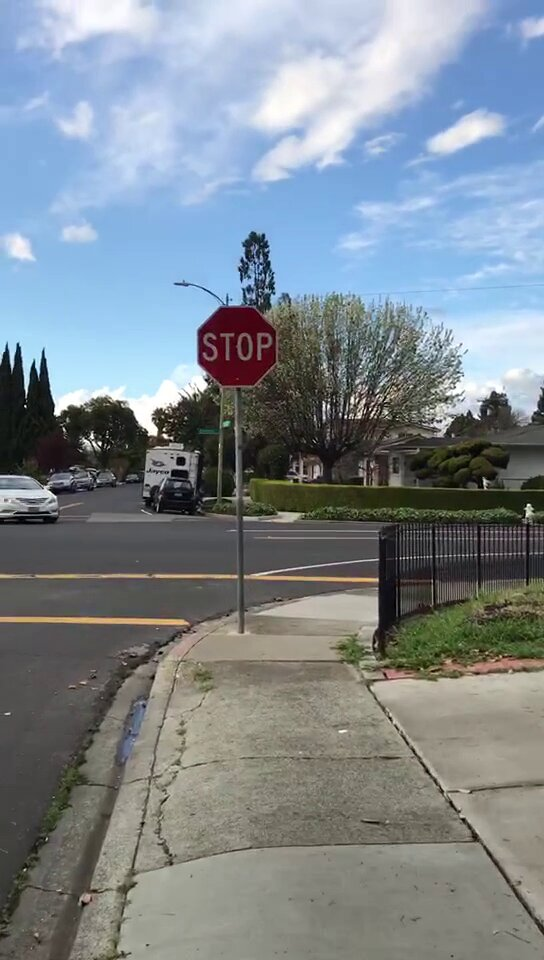stop_sign: (196, 308, 278, 389)
